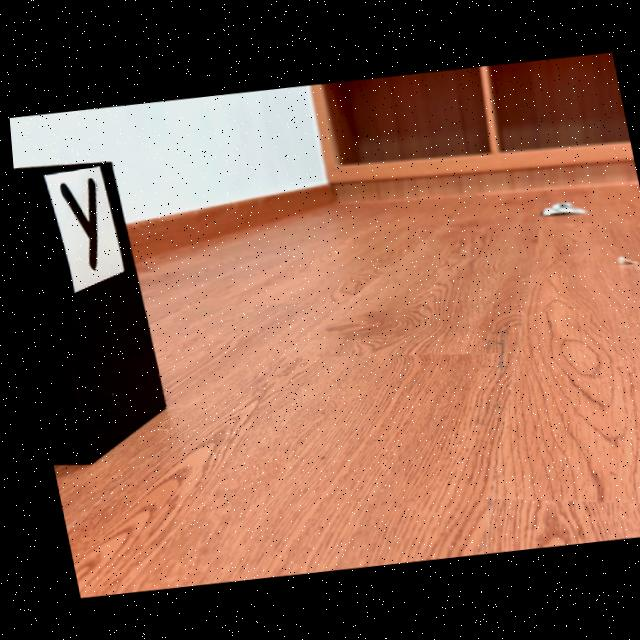Y: (57, 178, 94, 269)
